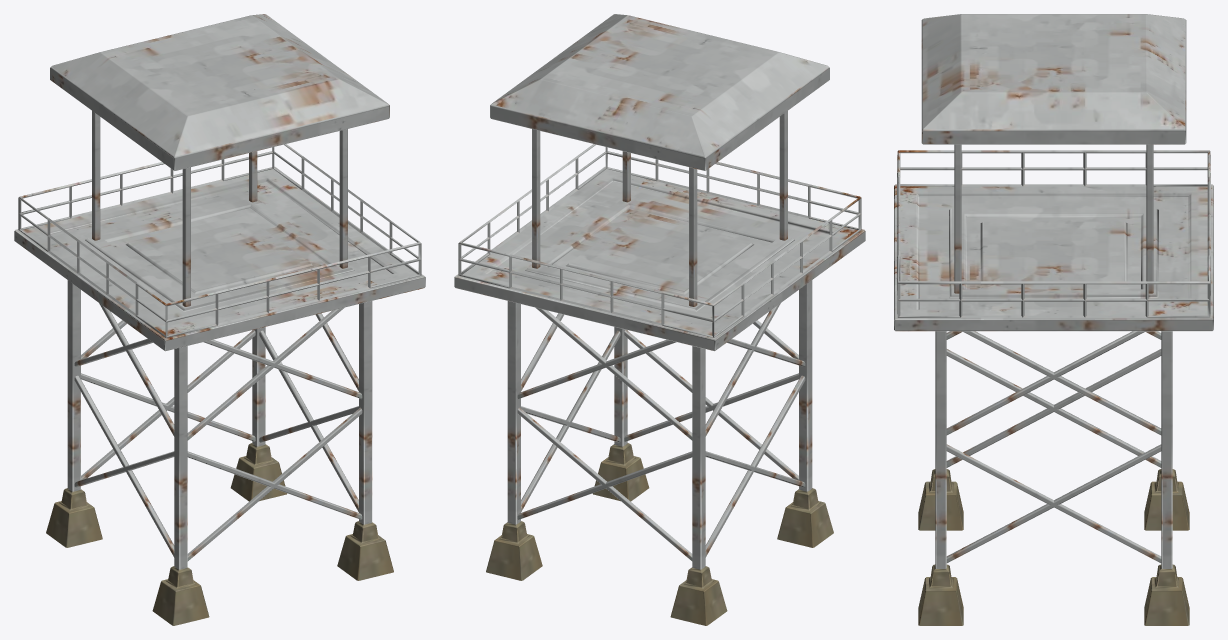
The model's file is mil_watchtower.glb.
3 views of the same model, side by side, from view 1: azimuth 30°, elevation 25°; view 2: azimuth 150°, elevation 25°; view 3: azimuth 270°, elevation 25° (orthographic). The views are drawn at different scales.
Visible parts, largest first — view 1: mil_watchtower; view 2: mil_watchtower; view 3: mil_watchtower.
Boxes of the visible parts, x1=… form: mil_watchtower: x1=14, y1=14, x2=425, y2=625; mil_watchtower: x1=454, y1=14, x2=865, y2=625; mil_watchtower: x1=894, y1=14, x2=1213, y2=625.
Size of the model in its own units: 3.4 by 6.05 by 3.4.
Materials: 1 (1 with a texture image).
